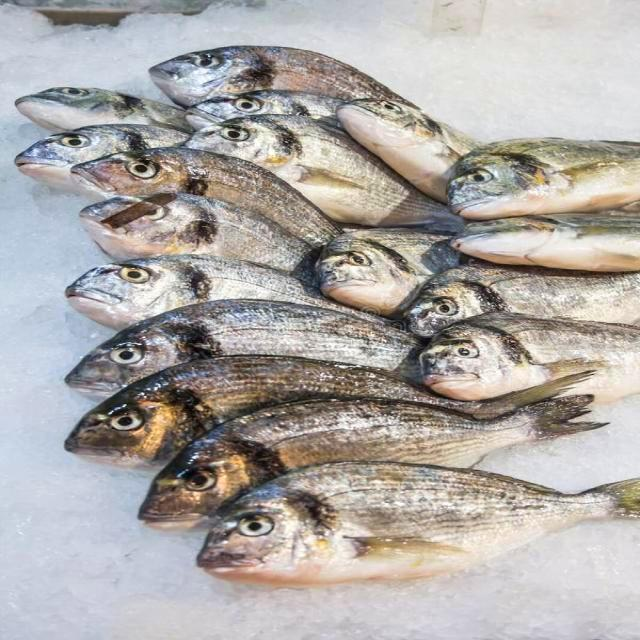fish: (139, 397, 601, 526), (196, 461, 638, 584), (69, 354, 559, 463), (338, 100, 638, 219), (65, 298, 418, 394), (185, 112, 458, 227), (69, 146, 337, 243), (65, 255, 368, 328), (419, 310, 638, 401), (80, 191, 308, 271), (410, 264, 638, 334), (148, 45, 401, 106), (315, 227, 459, 315), (14, 123, 188, 183), (460, 224, 638, 268), (15, 87, 188, 131), (192, 89, 342, 123)
